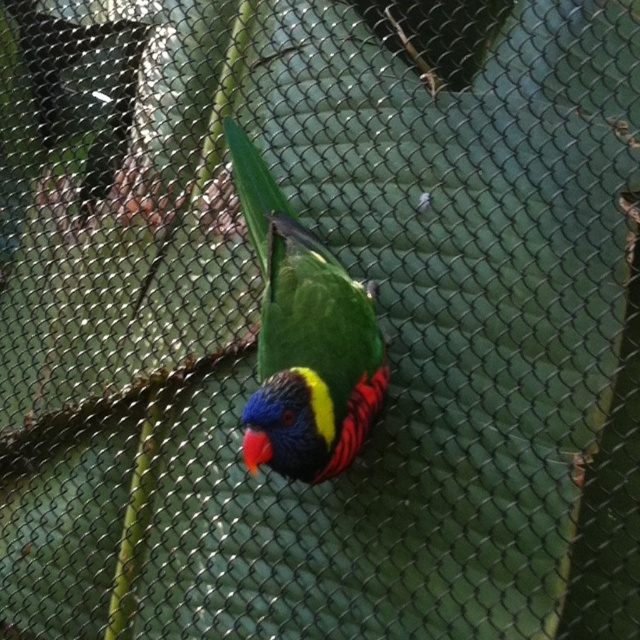Parrot: (220, 112, 395, 486)
